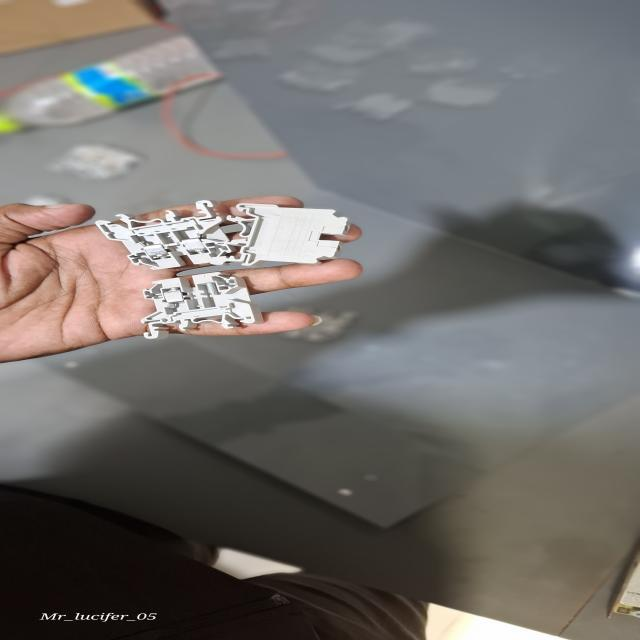Inverted: (236, 202, 356, 268)
Pass: (86, 197, 242, 270)
Reject: (132, 270, 274, 342)
